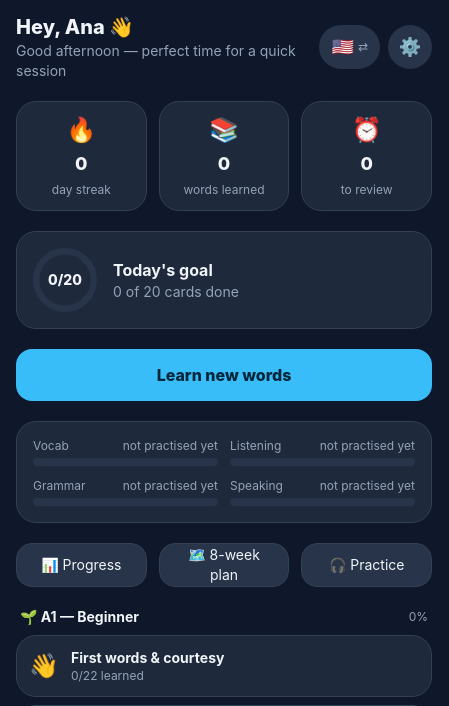
Test: App › reaches Dialogues through the Practice hub, and back returns to Practice
Click the button "🎧 Practice": (367, 565) [301,543,432,587]
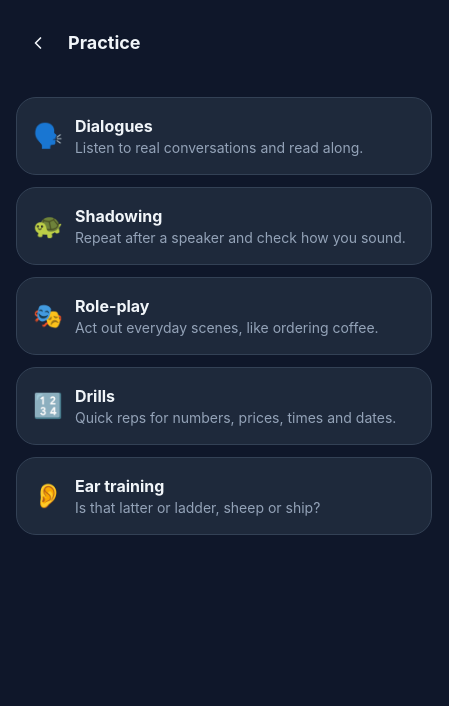
Expected: the heading "Practice" is shown, [68,29,141,57]
Click the button with test id "practice-dialogues": (224, 136) [16,97,432,175]
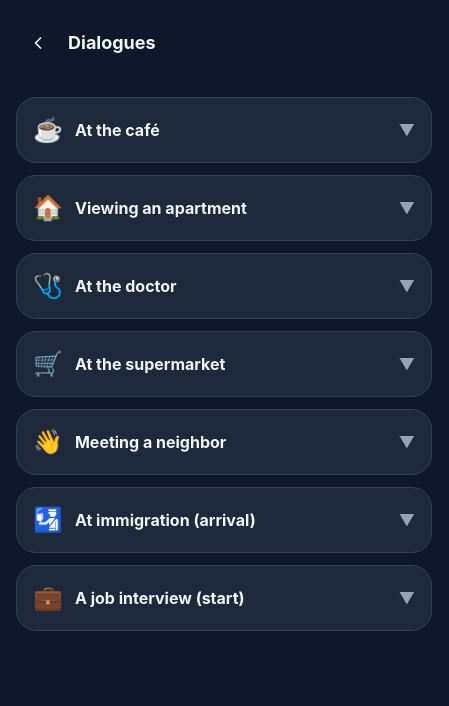
Result: the heading "Dialogues" is shown at [68,29,156,57]
Click the button named "go back": (38, 43) [16,21,60,65]
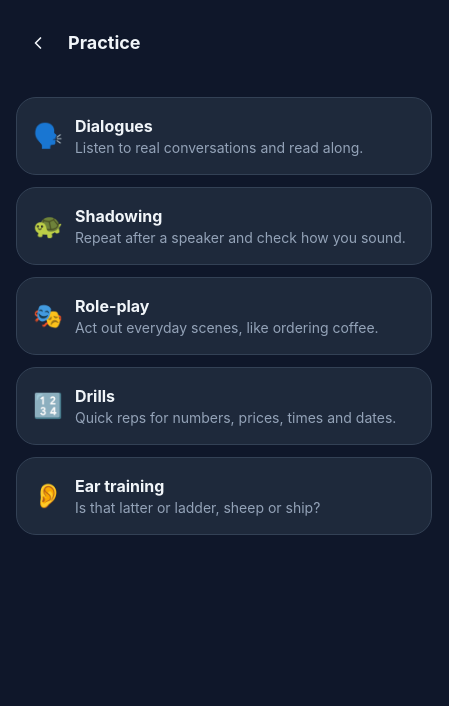
Result: the heading "Practice" is shown at [68,29,141,57]
